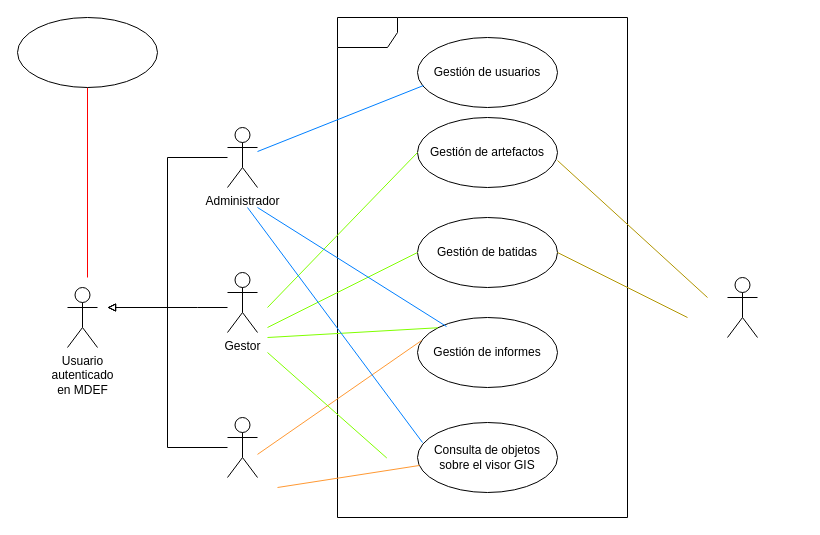
Some shapes in this 820 by 535 pixel diagram are drawn without their labels. The shapes that lost their labels are listed below. From the top down, each one's box as (x1, y1, x2, y2) in pixels, then its label:
(16, 16, 158, 88): Autenticación de usuario
(336, 16, 628, 518): AGNEX
(726, 276, 758, 338): Servicio de cartografía WMS
(226, 416, 258, 478): Consultas
